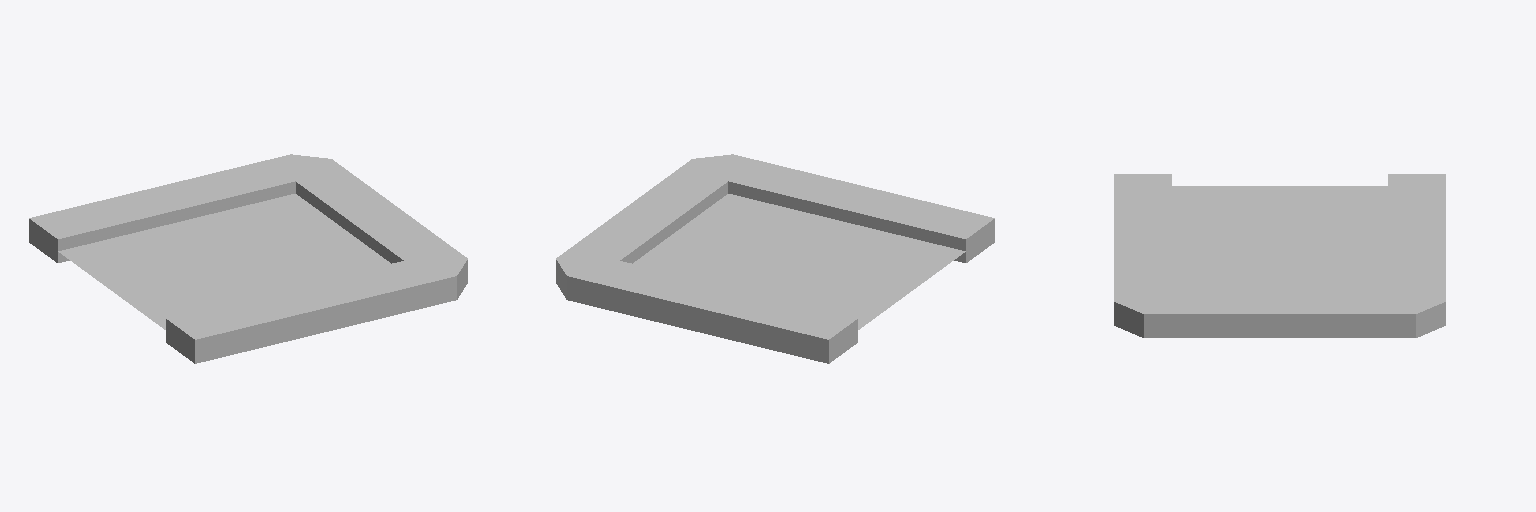
File: metalTileConnectEnd.obj
3 renders of one model, left to right at view 1: azimuth 30°, elevation 25°; view 2: azimuth 150°, elevation 25°; view 3: azimuth 270°, elevation 25°, orthographic.
Parts seen in each view (by area): view 1: metalTileConnectEnd; view 2: metalTileConnectEnd; view 3: metalTileConnectEnd.
Boxes of the visible parts, x1=… form: metalTileConnectEnd: x1=29, y1=154, x2=467, y2=363; metalTileConnectEnd: x1=556, y1=154, x2=994, y2=363; metalTileConnectEnd: x1=1114, y1=174, x2=1445, y2=337.
Bounding box in the file's own units: 10 × 0.8 × 10.